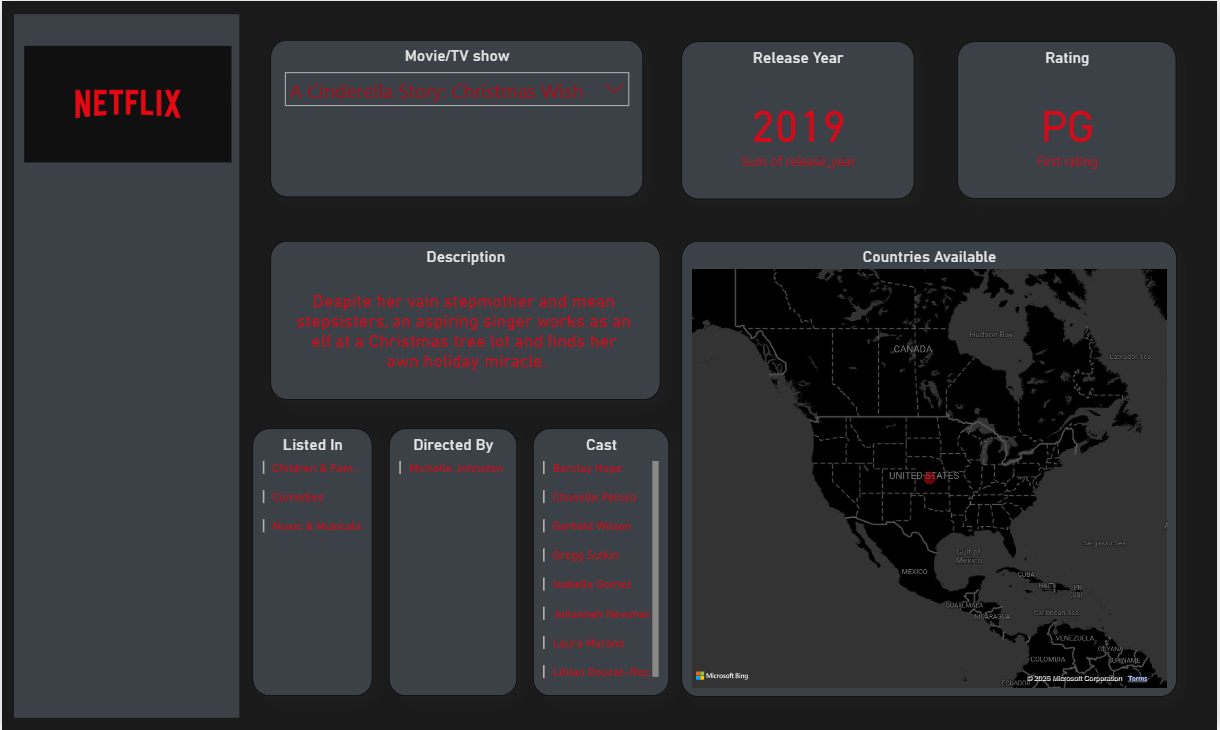

The page's visual inventory and layout, read from the dashboard file:
{"tool":"powerbi","page":{"name":"Single title view","canvas":[1500,900],"ordinal":1},"visuals":[{"type":"shape","box":[14,16,278,868],"z":0},{"type":"multiRowCard","title":"Cast","fields":{"Values":["netflix_data netflix_cast.cast"]},"box":[656,528,168,330],"z":1000},{"type":"card","title":"Rating","fields":{"Values":["Min(netflix_data titles.rating)"]},"box":[1180,50,270,194],"z":2000},{"type":"map","title":"Countries Available","fields":{"Size":["CountNonNull(netflix_data countries_released.show_id)"],"Category":["netflix_data countries_released.country"]},"box":[839.3,296.8,611.2,562.5],"z":3000},{"type":"image","box":[0,50,310,154],"z":4000},{"type":"card","title":"Release Year","fields":{"Values":["Sum(netflix_data titles.release_year)"]},"box":[838.9,50,287,194.4],"z":5000},{"type":"slicer","title":"Movie/TV show","fields":{"Values":["netflix_data titles.title"]},"box":[332,48,460,194],"z":6000},{"type":"multiRowCard","title":"Directed By","fields":{"Values":["netflix_data netflix_directors.director"]},"box":[478,528,158,330],"z":7000},{"type":"multiRowCard","title":"Listed In","fields":{"Values":["netflix_data netflix_listed_in.category"]},"box":[310,528,148,330],"z":8000},{"type":"card","title":"Description","fields":{"Values":["Min(netflix_data description.description)"]},"box":[331.5,296.3,481.5,196.3],"z":9000}]}

Visuals, with their boxes in screenshot pixels (x1, y1, x2, y2), scaled from the page's 1500x900 canvas onto the 1220x730 screenshot:
shape: x1=11 y1=13 x2=237 y2=717
"Cast" multiRowCard: x1=534 y1=428 x2=670 y2=696
"Rating" card: x1=960 y1=41 x2=1179 y2=198
"Countries Available" map: x1=683 y1=241 x2=1180 y2=697
image: x1=0 y1=41 x2=252 y2=165
"Release Year" card: x1=682 y1=41 x2=916 y2=198
"Movie/TV show" slicer: x1=270 y1=39 x2=644 y2=196
"Directed By" multiRowCard: x1=389 y1=428 x2=517 y2=696
"Listed In" multiRowCard: x1=252 y1=428 x2=373 y2=696
"Description" card: x1=270 y1=240 x2=661 y2=400
